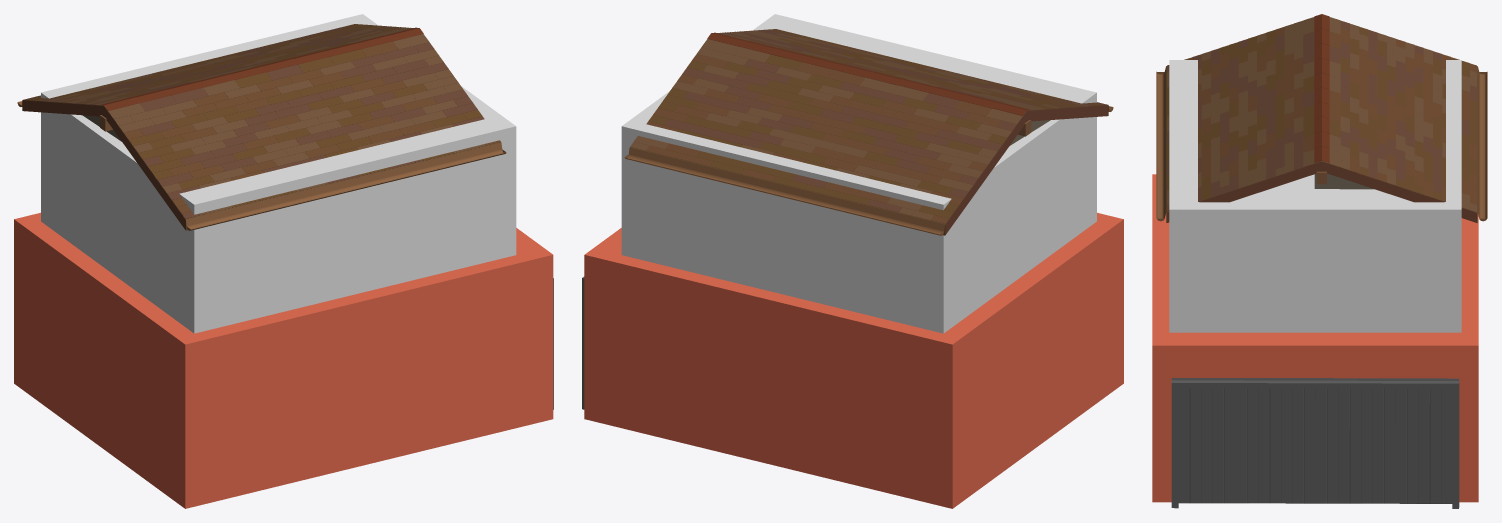
Rendered from casa5.fbx.
3 renders of one model, left to right at view 1: azimuth 30°, elevation 25°; view 2: azimuth 150°, elevation 25°; view 3: azimuth 270°, elevation 25°, orthographic. The views are drawn at different scales.
Visible parts, largest first — view 1: Cube, Cube.001, Roof; view 2: Cube, Cube.001, Roof; view 3: Cube.001, Roof, Panel, Cube, Door, casa.
Part boxes in pixels (box(x1,y1,x2,y2)): Cube: box(14, 212, 553, 508); Cube.001: box(41, 14, 516, 333); Roof: box(17, 24, 506, 230); Cube: box(584, 212, 1123, 508); Cube.001: box(621, 14, 1096, 333); Roof: box(624, 29, 1113, 235); Cube.001: box(1169, 60, 1461, 332); Roof: box(1156, 14, 1487, 222); Panel: box(1178, 388, 1452, 503); Cube: box(1152, 174, 1478, 502); Door: box(1171, 378, 1459, 508); casa: box(1314, 173, 1373, 189).
Bounding box in the file's own units: 1112 × 967 × 890.
